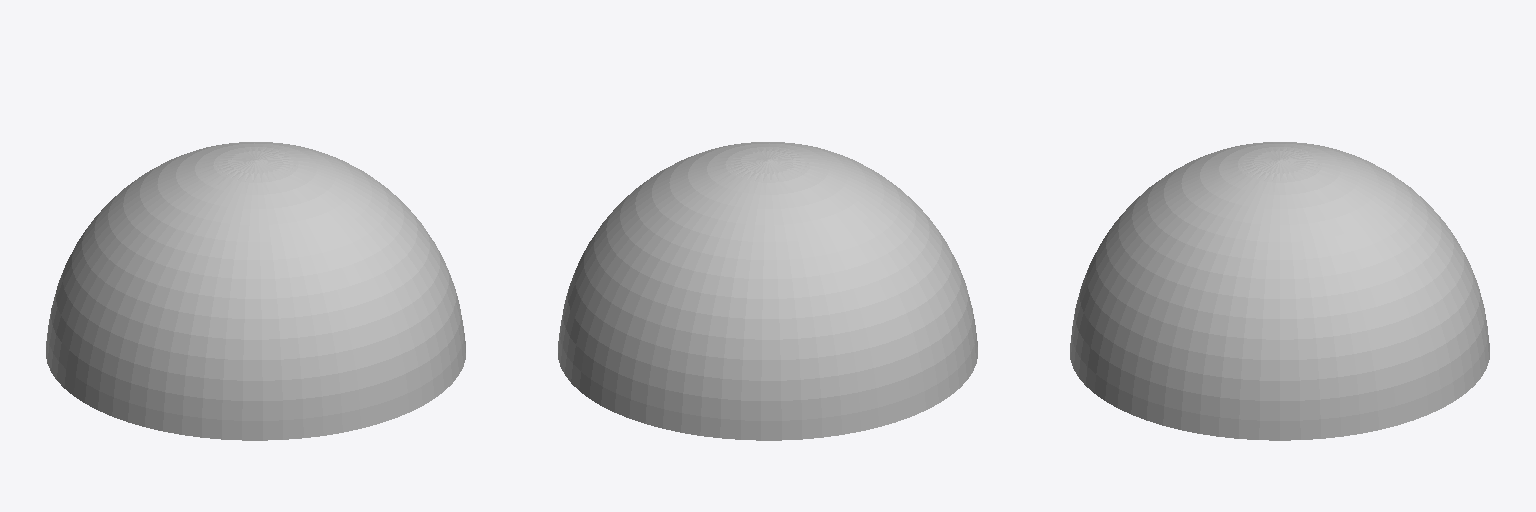
File: dome2.obj
3 views of the same model, side by side, from view 1: azimuth 30°, elevation 25°; view 2: azimuth 150°, elevation 25°; view 3: azimuth 270°, elevation 25° (orthographic).
Visible parts, largest first — view 1: Sphere; view 2: Sphere; view 3: Sphere.
Boxes of the visible parts, x1=… form: Sphere: x1=46, y1=142, x2=465, y2=440; Sphere: x1=558, y1=142, x2=977, y2=440; Sphere: x1=1070, y1=142, x2=1489, y2=440.
Size of the model in its own units: 1.99 by 0.9976 by 1.99.